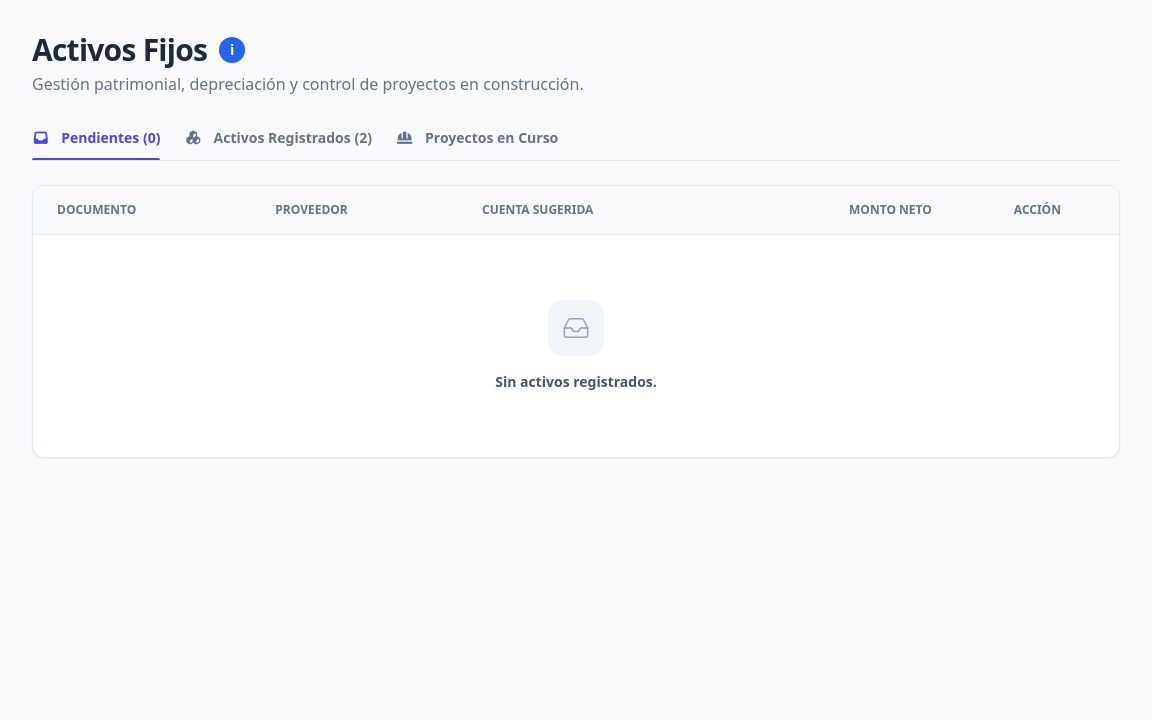
Scenario: GestionActivos - modal de edicion › abre el modal de edicion al click en el lapiz
This screenshot has width=1152, height=720.
What coordinates should you click on to do the following:
click the button "Activos Registrados (2)"
I would click on:
 (278, 144)
Its box is [184,128,372,160].
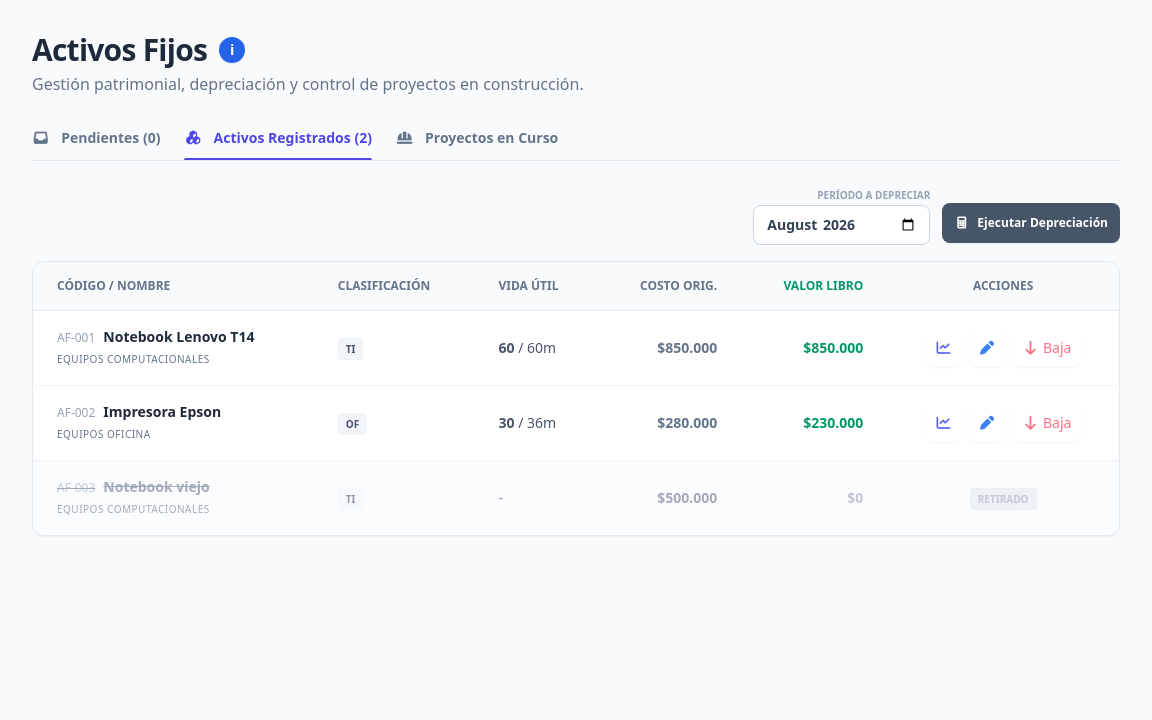
Now the text "Notebook Lenovo T14" is shown, box [103,327,254,346]
What coordinates should you click on to do the following:
click the button named "Editar activo" in the row of "AF-001"
I would click on:
 (987, 348)
Its box is [969,329,1005,367].
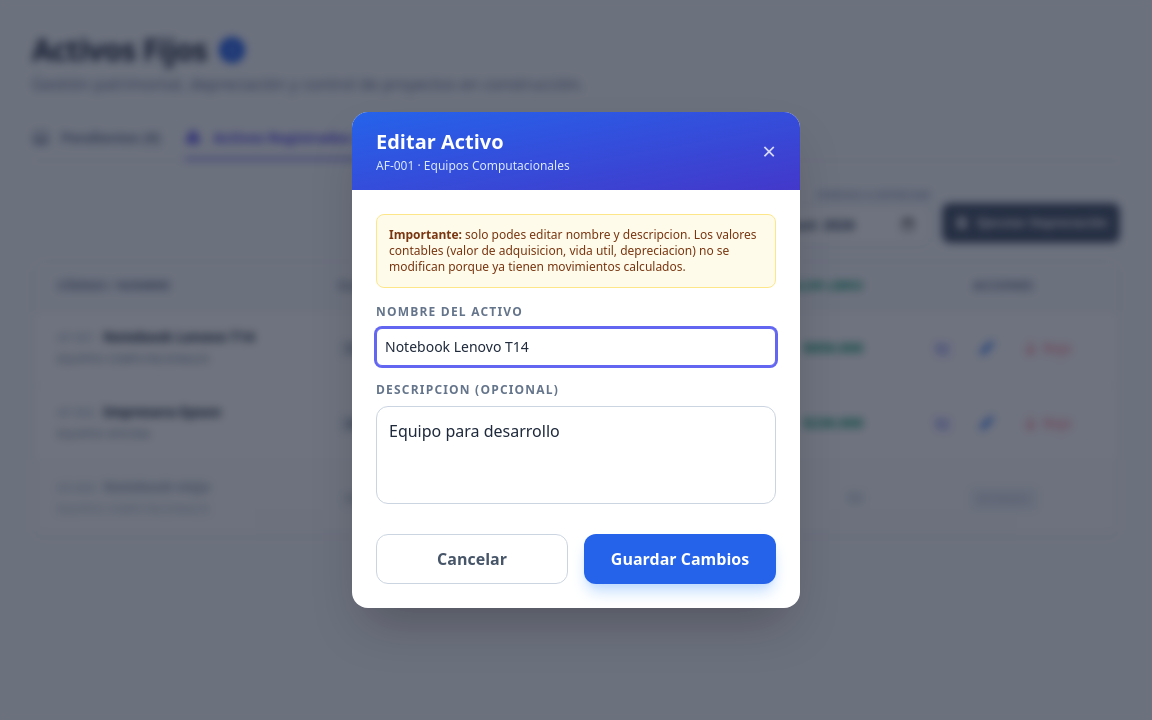
Now the heading "Editar Activo" is shown, box [376,128,504,155]
